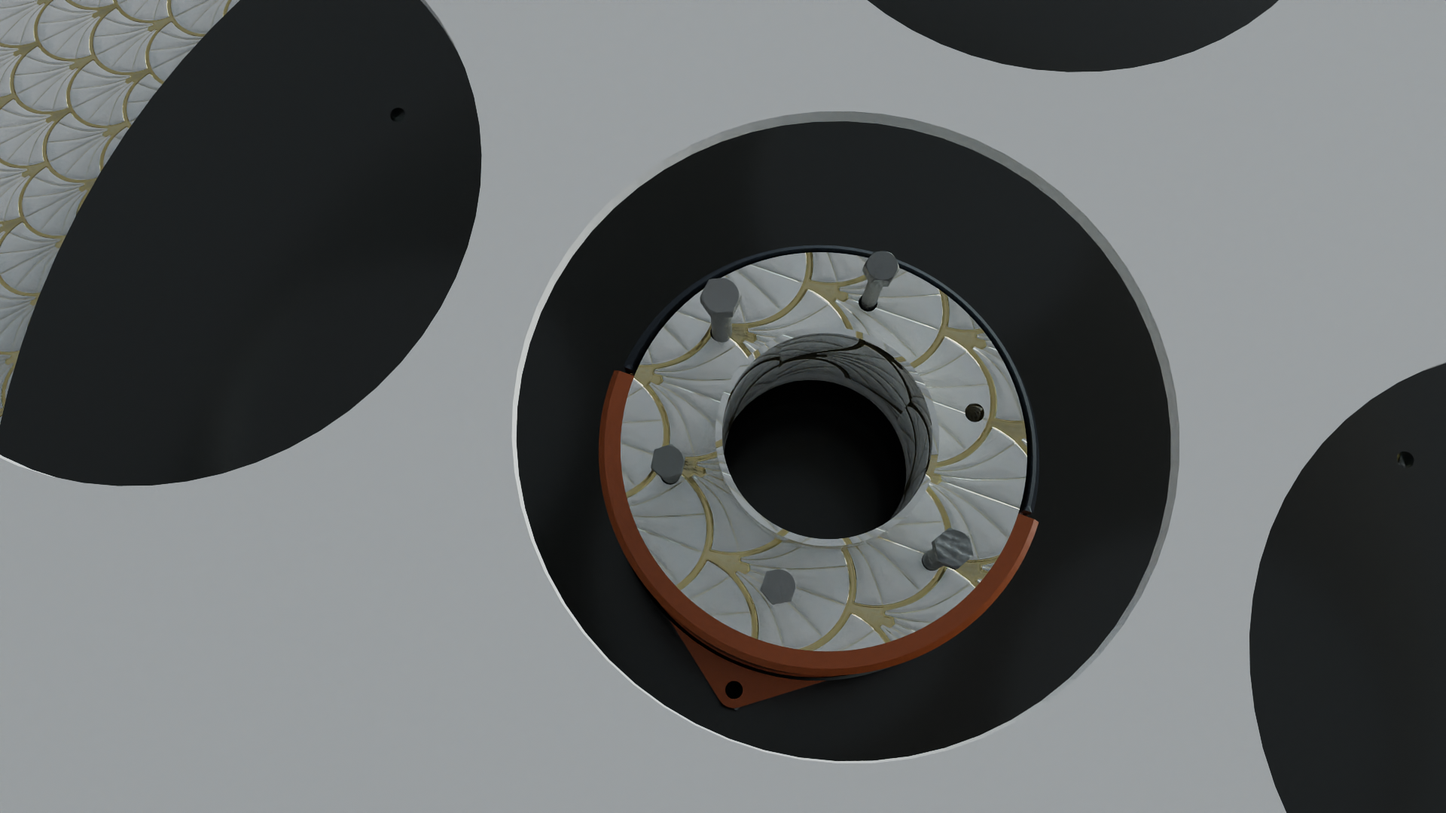bolt: (934, 528, 973, 568), (700, 278, 742, 314), (761, 568, 798, 604), (651, 444, 685, 479), (864, 251, 900, 282)
